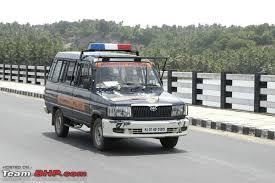Emergency-Vehicles: (38, 44, 189, 147)
